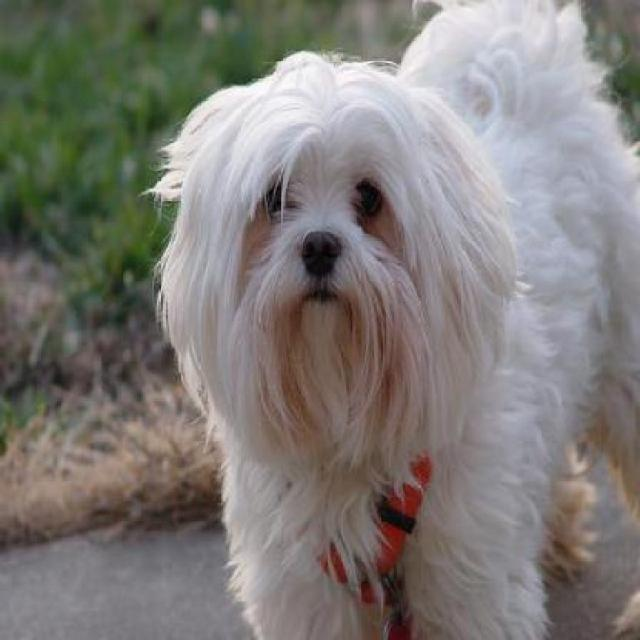Dog: (137, 3, 638, 639)
